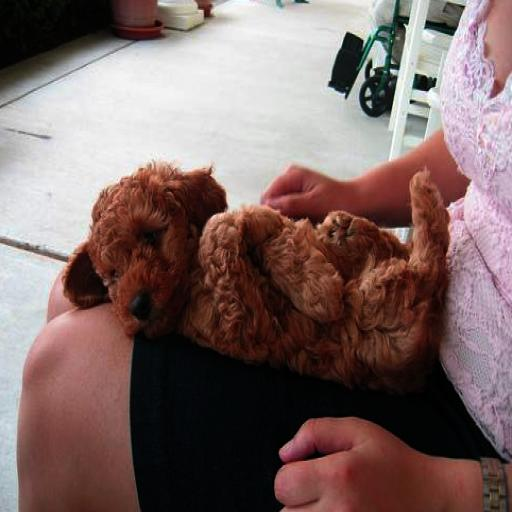dog_face: (61, 159, 192, 340)
